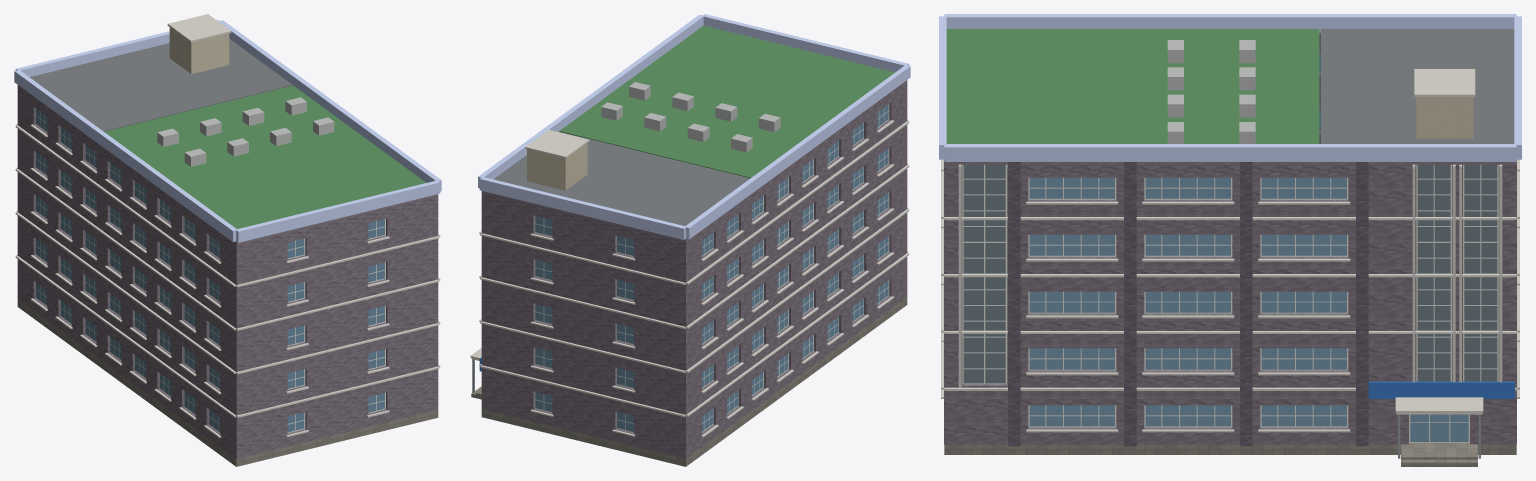
The picture shows the model from 3 angles, left to right: view 1: azimuth 30°, elevation 25°; view 2: azimuth 150°, elevation 25°; view 3: azimuth 270°, elevation 25°; orthographic projection. The views are drawn at different scales.
Visible parts, largest first — view 1: mid__brick, mid__greenroof, mid__greyroof, mid__eave, mid__sideglass, mid__white, mid__frame, mid__stone, mid__unit, mid__cream, mid__cap; view 2: mid__brick, mid__greenroof, mid__eave, mid__sideglass, mid__white, mid__greyroof, mid__frame, mid__stone, mid__unit, mid__cream, mid__cap; view 3: mid__brick, mid__greenroof, mid__glass, mid__darkglass, mid__eave, mid__white, mid__greyroof, mid__frame, mid__pier, mid__stone, mid__unit, mid__cap (+4 smaller).
Part boxes in pixels (bbox=[...]): mid__brick: bbox=[17, 85, 438, 458]; mid__greenroof: bbox=[104, 85, 425, 228]; mid__greyroof: bbox=[29, 39, 292, 131]; mid__eave: bbox=[14, 19, 441, 242]; mid__sideglass: bbox=[36, 109, 384, 432]; mid__white: bbox=[15, 124, 440, 437]; mid__frame: bbox=[35, 108, 385, 432]; mid__stone: bbox=[17, 299, 438, 466]; mid__unit: bbox=[157, 97, 334, 166]; mid__cream: bbox=[169, 27, 229, 74]; mid__cap: bbox=[167, 14, 231, 42]; mid__brick: bbox=[481, 80, 907, 458]; mid__greenroof: bbox=[559, 25, 894, 178]; mid__eave: bbox=[478, 14, 910, 239]; mid__sideglass: bbox=[535, 104, 888, 431]; mid__white: bbox=[471, 119, 909, 437]; mid__greyroof: bbox=[493, 131, 750, 225]; mid__frame: bbox=[534, 104, 889, 432]; mid__stone: bbox=[481, 297, 907, 466]; mid__unit: bbox=[601, 82, 780, 152]; mid__cream: bbox=[527, 143, 587, 190]; mid__cap: bbox=[470, 130, 589, 359]; mid__brick: bbox=[944, 31, 1516, 444]; mid__greenroof: bbox=[946, 29, 1319, 143]; mid__glass: bbox=[1029, 177, 1468, 441]; mid__darkglass: bbox=[963, 164, 1497, 383]; mid__eave: bbox=[939, 14, 1521, 161]; mid__white: bbox=[941, 159, 1519, 432]; mid__greyroof: bbox=[1321, 29, 1514, 143]; mid__frame: bbox=[962, 164, 1498, 442]; mid__pier: bbox=[1008, 162, 1368, 446]; mid__stone: bbox=[944, 444, 1516, 454]; mid__unit: bbox=[1167, 40, 1255, 143]; mid__cap: bbox=[1395, 69, 1483, 412].
Bounding box in the file's own units: 19.38 × 21.09 × 32.48.
16 materials, 5 textured.
